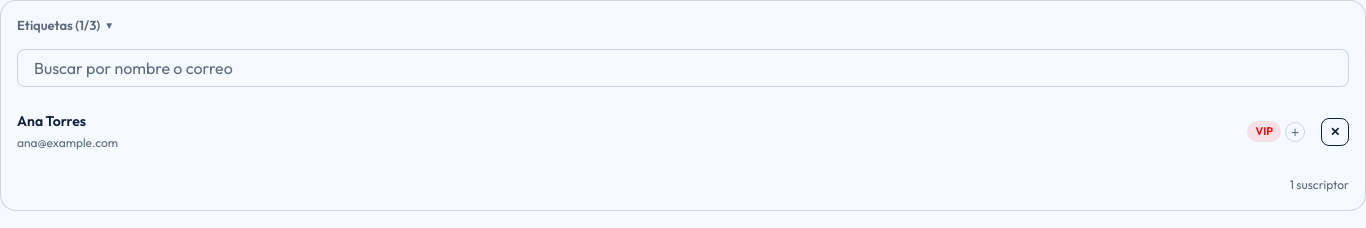
SubscribersList › shows a checkmark next to assigned labels in the dropdown
Click the button named "Etiquetar a Ana Torres" at (1295, 132), box [1285,122,1305,142]
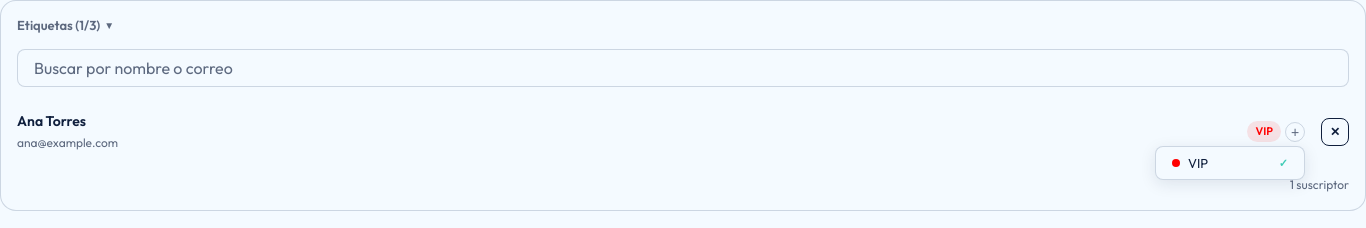
Now the text "✓" is shown, box [1279,156,1288,170]
